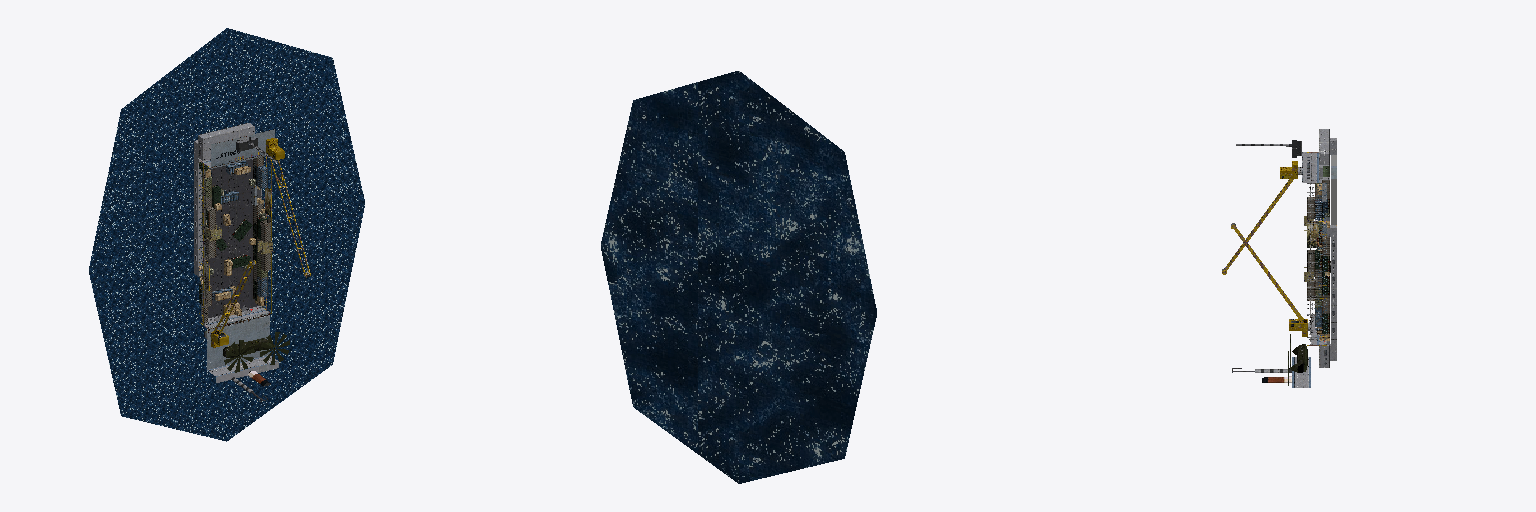
3 renders of one model, left to right at view 1: azimuth 30°, elevation 25°; view 2: azimuth 150°, elevation 25°; view 3: azimuth 270°, elevation 25°, orthographic.
Visible parts, largest first — view 1: Model_0001, Model_0000, Model_0012, Model_0011; view 2: Model_0001; view 3: Model_0000, Model_0012, Model_0011, Model_0006.
Boxes of the visible parts, x1=… form: Model_0001: x1=89, y1=28, x2=364, y2=441; Model_0000: x1=194, y1=123, x2=278, y2=401; Model_0012: x1=266, y1=138, x2=310, y2=277; Model_0011: x1=211, y1=235, x2=255, y2=347; Model_0001: x1=601, y1=71, x2=876, y2=483; Model_0000: x1=1232, y1=129, x2=1336, y2=387; Model_0012: x1=1222, y1=161, x2=1297, y2=274; Model_0011: x1=1231, y1=223, x2=1307, y2=336; Model_0006: x1=1307, y1=183, x2=1326, y2=344.
Bounding box in the file's own units: 4352 × 6212 × 1581.
Materials: 48 (47 with a texture image).